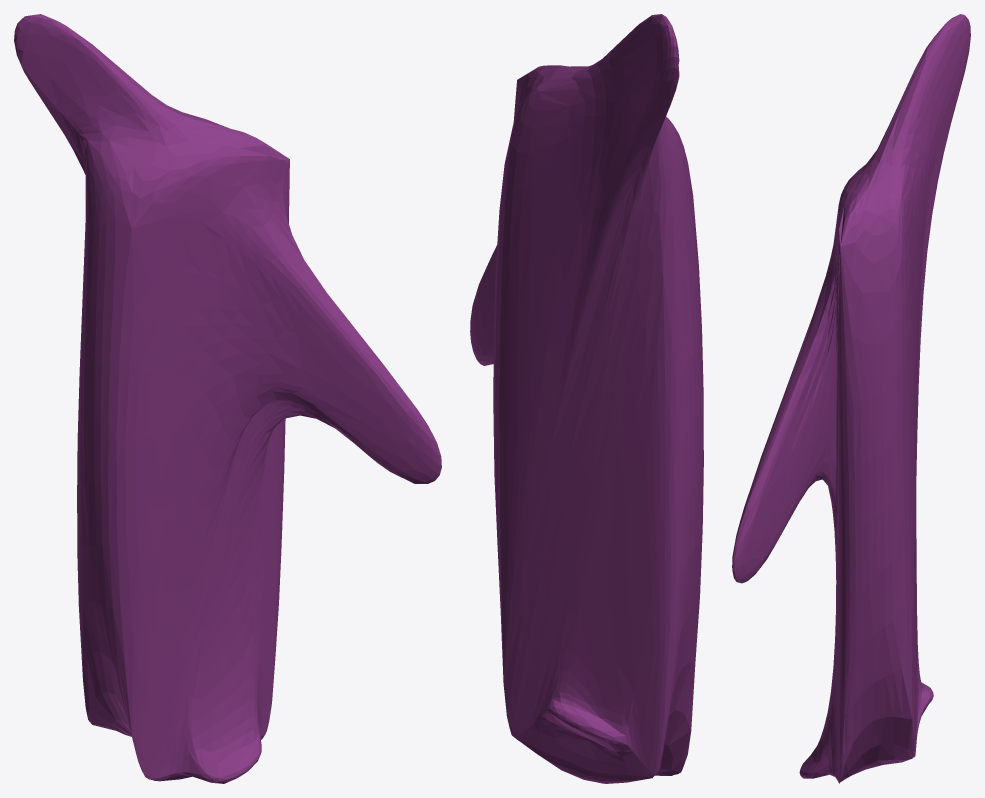
3 renders of one model, left to right at view 1: azimuth 30°, elevation 25°; view 2: azimuth 150°, elevation 25°; view 3: azimuth 270°, elevation 25°, orthographic. The views are drawn at different scales.
Parts seen in each view (by area): view 1: 781_Cube.3147; view 2: 781_Cube.3147; view 3: 781_Cube.3147.
Part boxes in pixels (x1=…): 781_Cube.3147: x1=14, y1=14, x2=441, y2=783; 781_Cube.3147: x1=470, y1=14, x2=703, y2=783; 781_Cube.3147: x1=732, y1=14, x2=970, y2=783.
Size of the model in its own units: 6.25 by 14.48 by 4.4.
